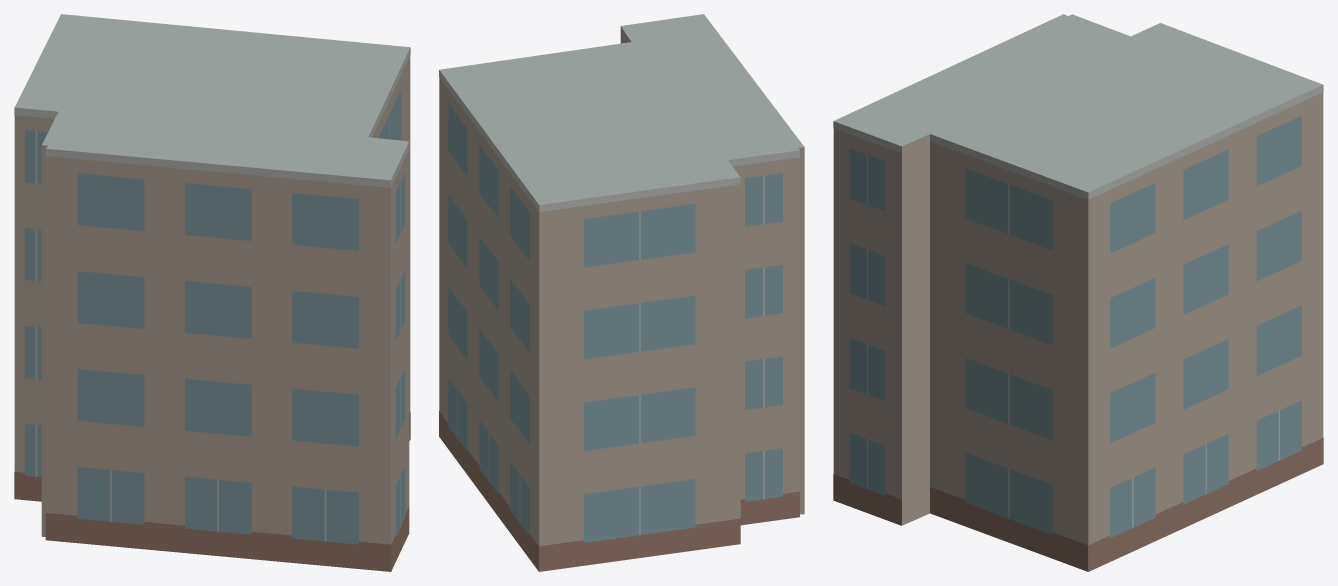
File: survey-upis-32655177.glb
3 renders of one model, left to right at view 1: azimuth 30°, elevation 25°; view 2: azimuth 150°, elevation 25°; view 3: azimuth 270°, elevation 25°, orthographic. The views are drawn at different scales.
Visible parts, largest first — view 1: survey-upis-32655177.tmp; view 2: survey-upis-32655177.tmp; view 3: survey-upis-32655177.tmp.
Boxes of the visible parts, x1,y1,x2,y2 form: survey-upis-32655177.tmp: [14, 14, 410, 571]; survey-upis-32655177.tmp: [439, 14, 804, 571]; survey-upis-32655177.tmp: [833, 14, 1323, 571].
Size of the model in its own units: 12.82 by 12.7 by 14.87.
